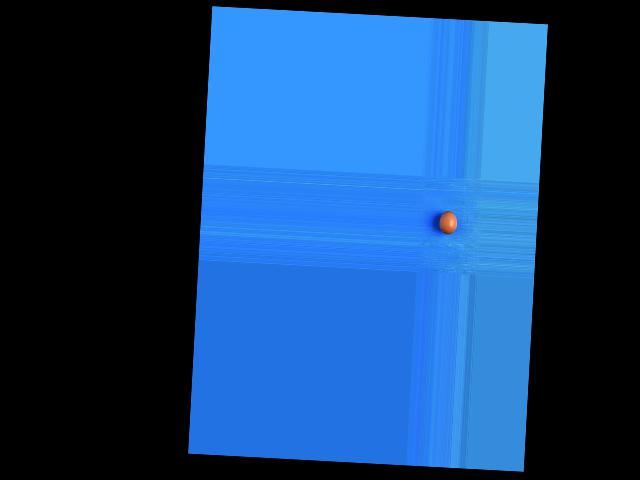egg: (437, 210, 457, 234)
